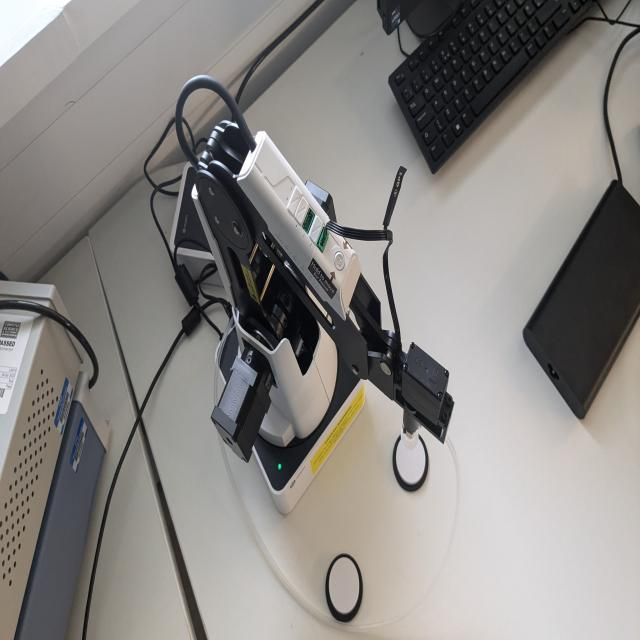Robot-end-effector-HF8z: (388, 337, 459, 462)
